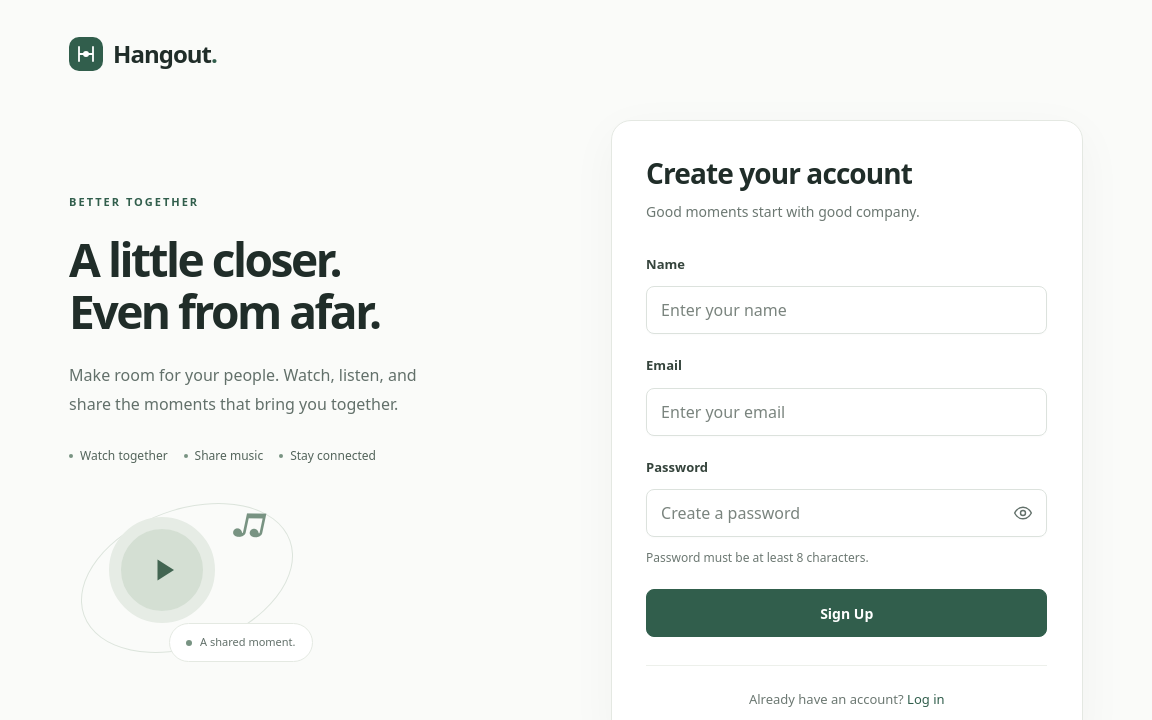
Signup Page › shows error when signup fails
In the field with placeholder "Enter your name": (847, 310) [646,286,1047,334], type "Test User"
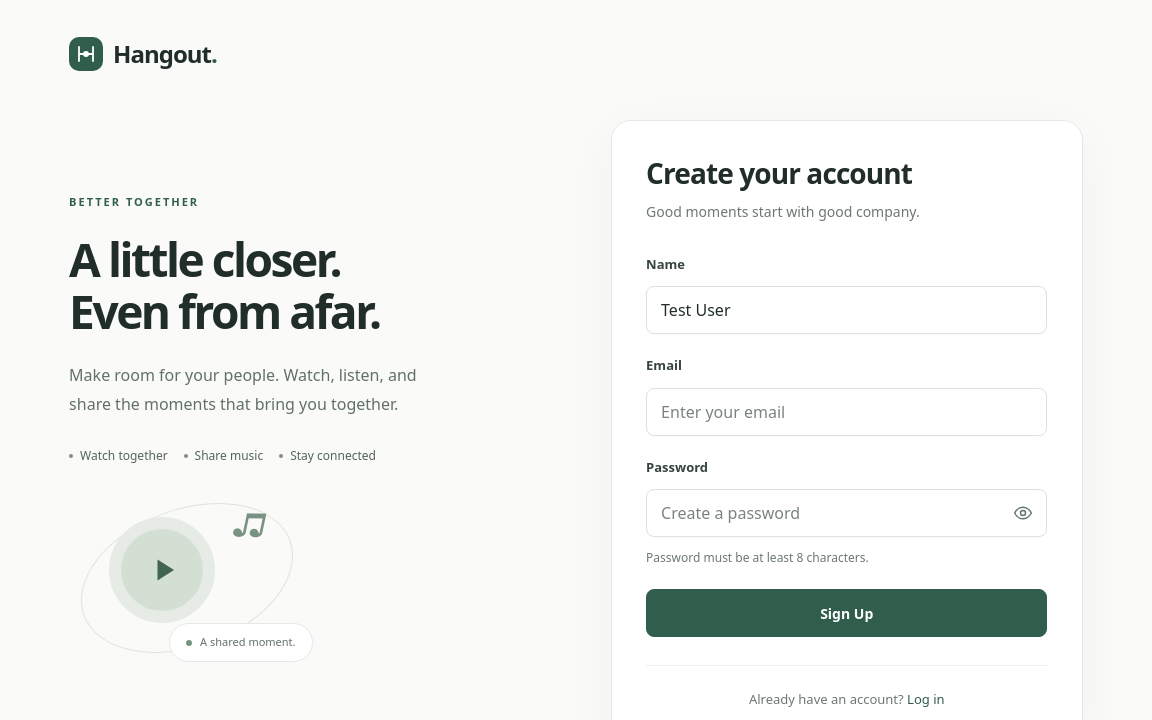
In the field with placeholder "Enter your email": (847, 412) [646,388,1047,436], type "existing@example.com"
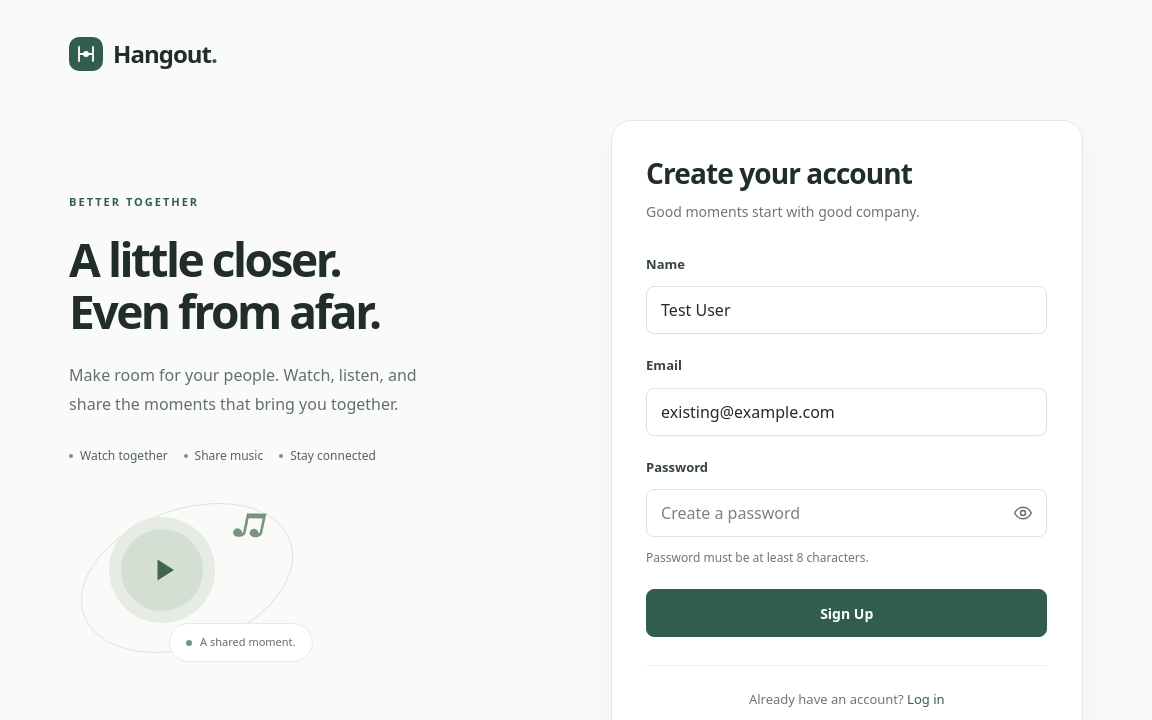
In the password field with placeholder "Create a password": (847, 513) [646,489,1047,537], type "password123"
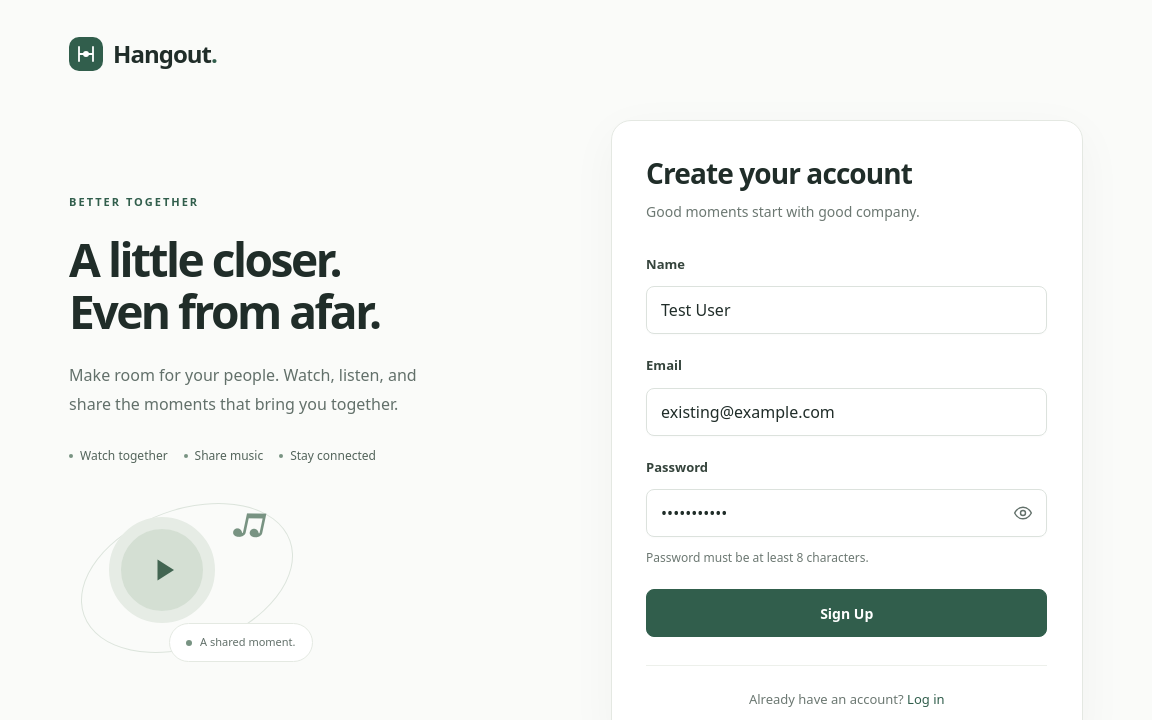
Click the button "Sign Up": (847, 613) [646,589,1047,637]
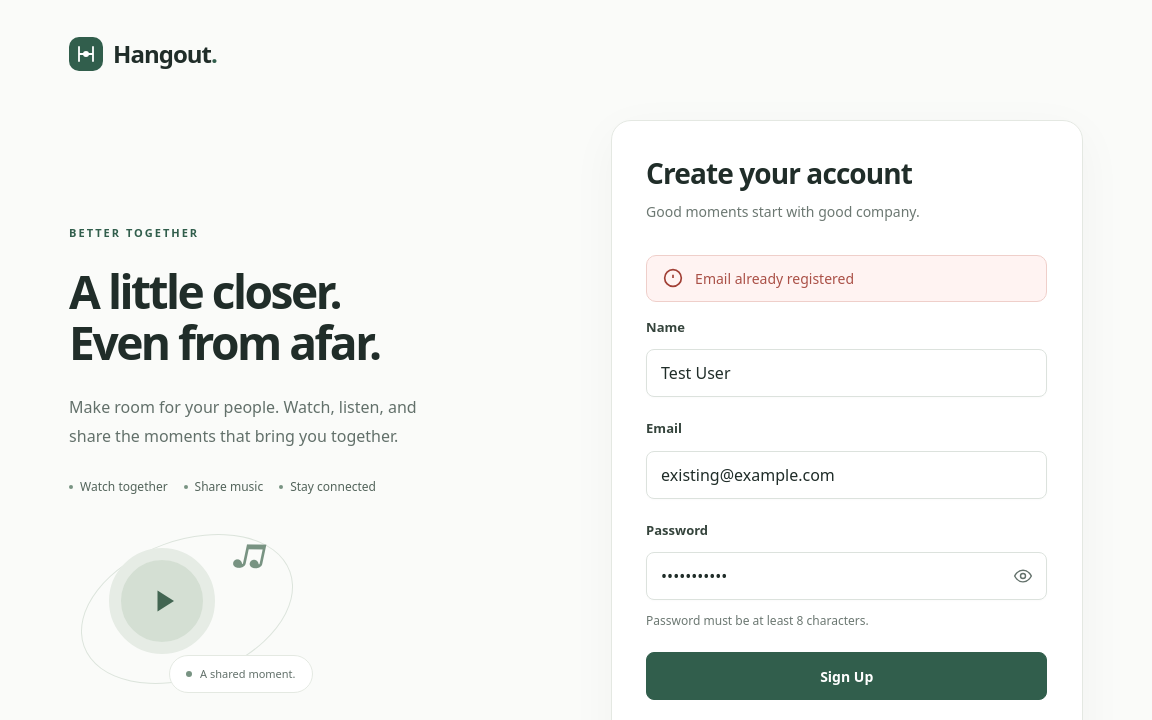
Check: the text "Email already registered" is shown, box [695,269,854,288]
